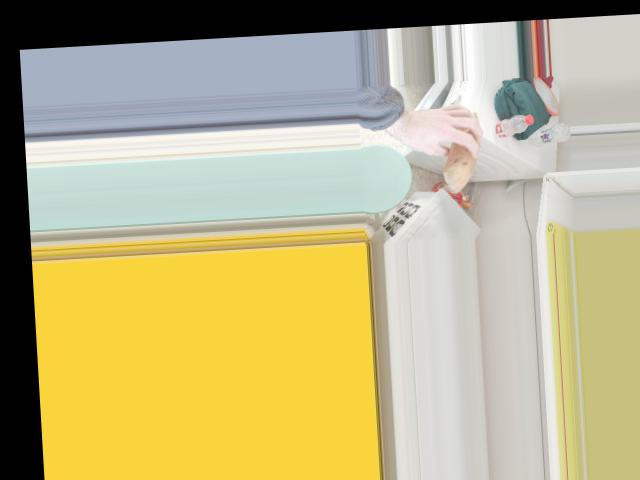sweet_potato: (442, 107, 484, 190)
